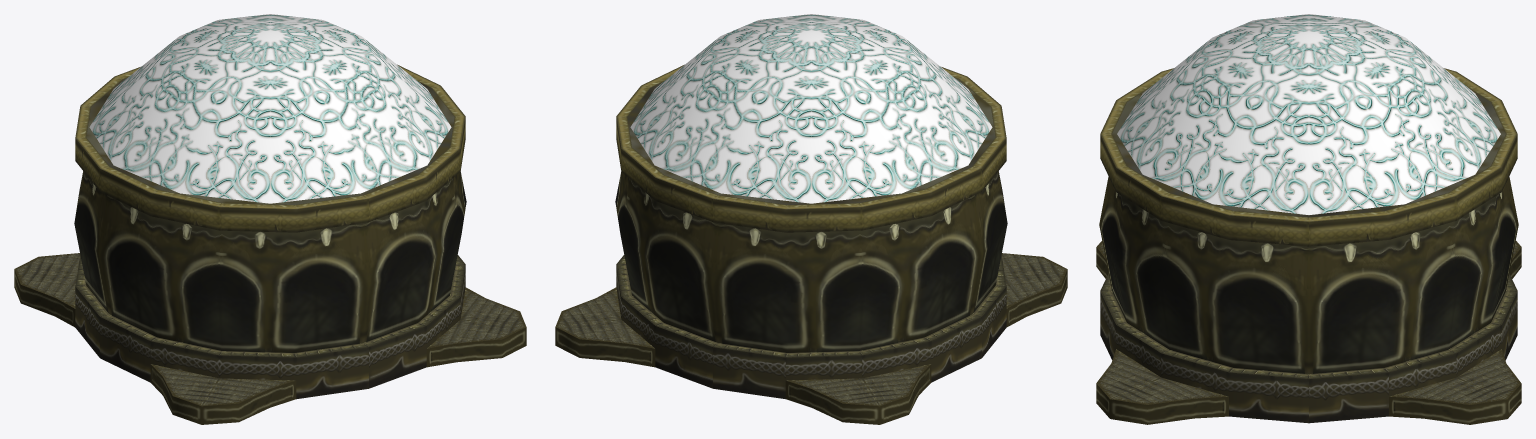
The model's file is e_farm.FBX.
3 views of the same model, side by side, from view 1: azimuth 30°, elevation 25°; view 2: azimuth 150°, elevation 25°; view 3: azimuth 270°, elevation 25° (orthographic). The views are drawn at different scales.
Parts seen in each view (by area): view 1: e_farm; view 2: e_farm; view 3: e_farm.
Boxes of the visible parts, box(x1,y1,x2,y2) form: e_farm: box(14, 14, 526, 424); e_farm: box(555, 14, 1067, 424); e_farm: box(1096, 14, 1521, 424).
Bounding box in the file's own units: 156 × 121 × 156.
